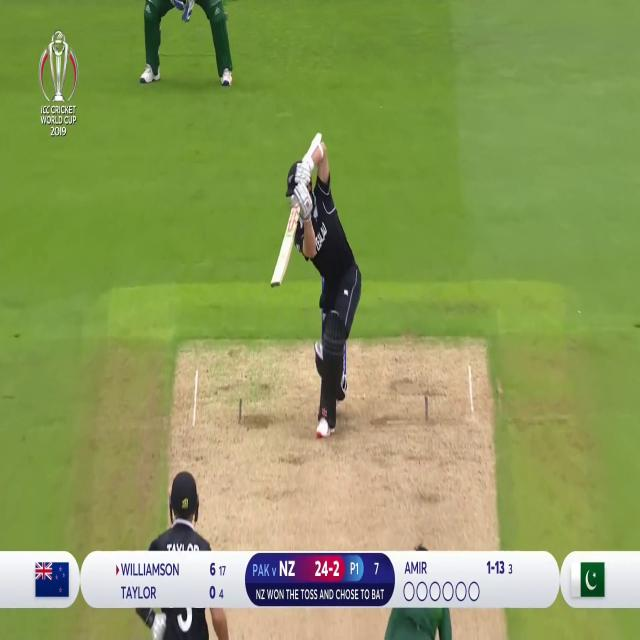bat: (270, 206, 300, 286)
toe: (269, 278, 281, 288)
